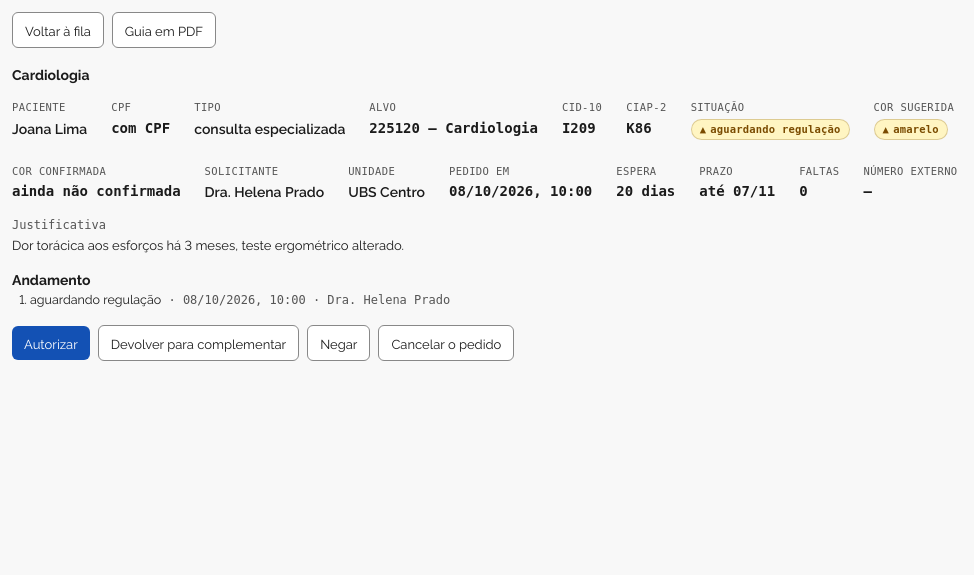
RequestDetail › mostra o pedido com andamento; as ofertas do mês e do alvo, esgotada desabilitada
Expected: the text "Joana Lima" is shown, [12,118,87,138]
Expected: the text "I209" is shown, [562,120,596,136]
Click the button "Autorizar": (51, 343) [12,326,90,360]
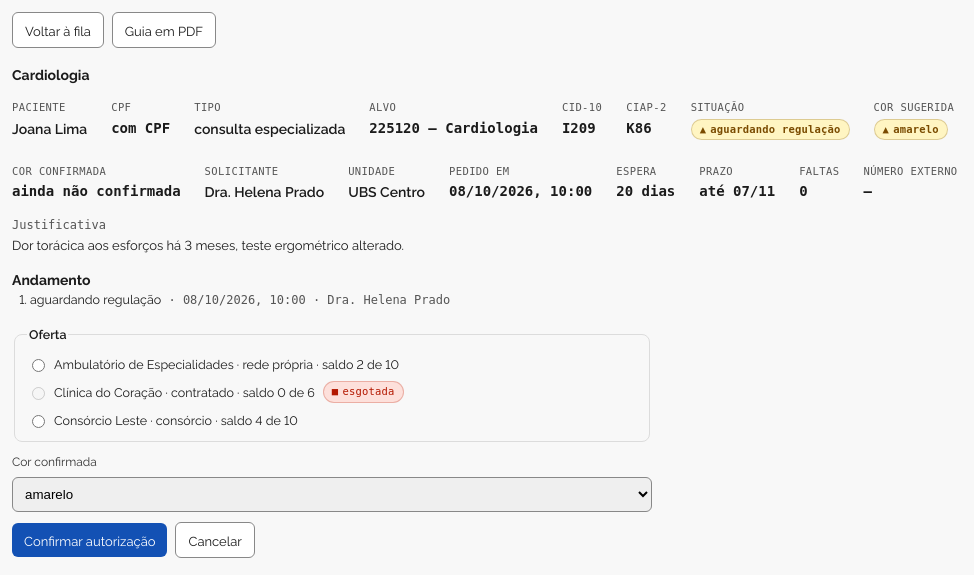
Expected: the radio button labelled "Clínica do Coração · contratado · saldo 0 de 6" is disabled, [32,387,45,400]
Expected: the text "esgotada" is shown, [323,381,404,403]
Expected: the radio button labelled "Ambulatório de Especialidades · rede própria · saldo 2 de 10" is shown, [32,359,45,372]
